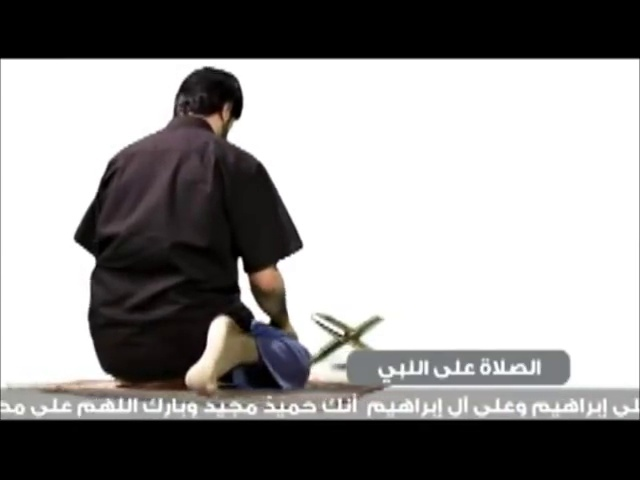sitting: (71, 63, 319, 399)
